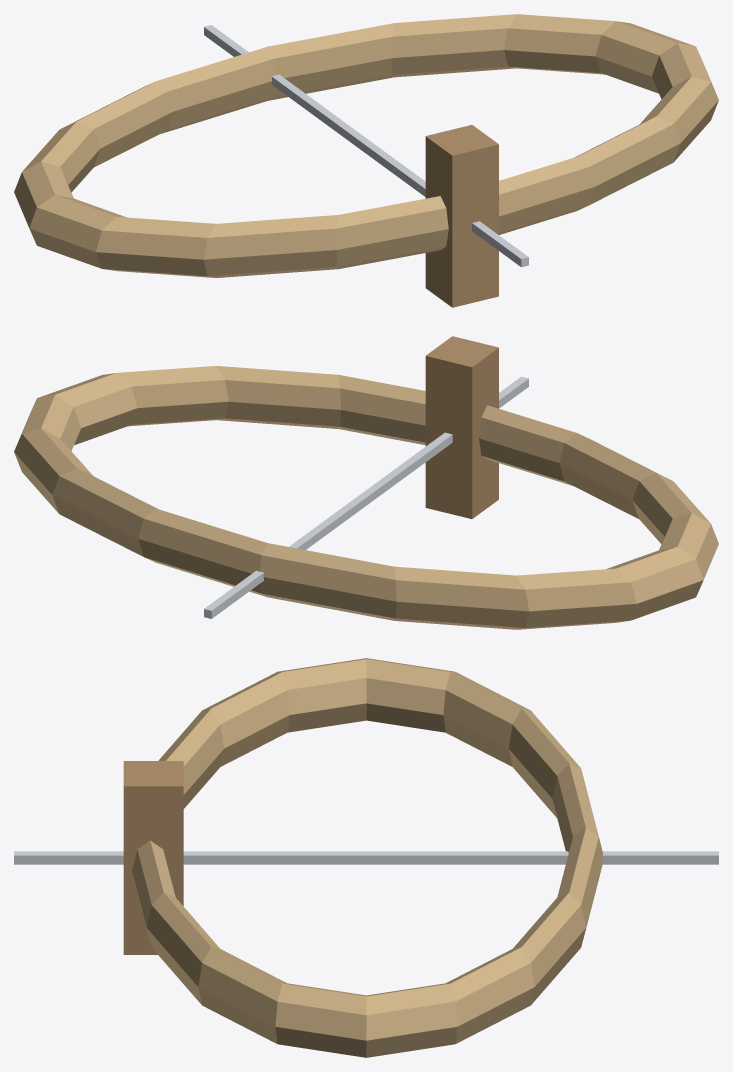
The model's file is bow.glb.
The picture shows the model from 3 angles, top to bottom: view 1: azimuth 30°, elevation 25°; view 2: azimuth 150°, elevation 25°; view 3: azimuth 270°, elevation 25°; orthographic projection. The views are drawn at different scales.
Parts seen in each view (by area): view 1: BowCurve; view 2: BowCurve; view 3: BowCurve.
Part boxes in pixels (x1,y1,x2,y2): BowCurve: (14, 14, 718, 307); BowCurve: (14, 336, 718, 629); BowCurve: (14, 658, 718, 1057).
Bounding box in the file's own units: 1.3 × 0.28 × 1.06.
